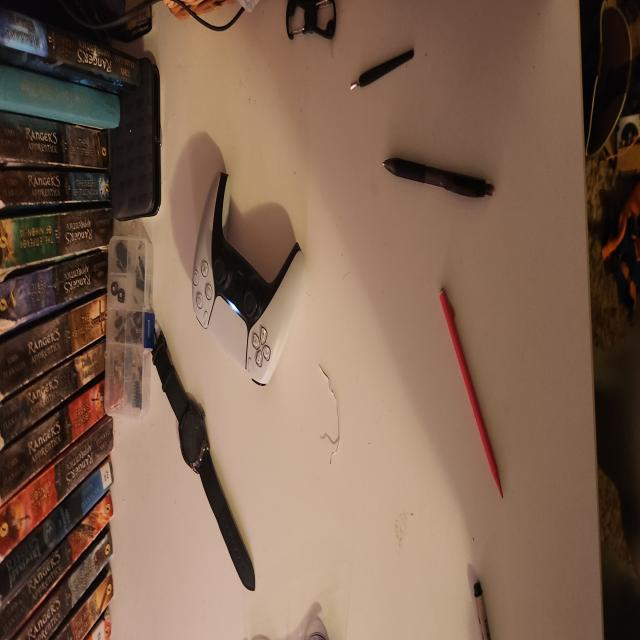Controller: (193, 174, 298, 350)
Pen: (440, 289, 503, 493), (383, 156, 493, 196)
Watch: (141, 314, 257, 595)
